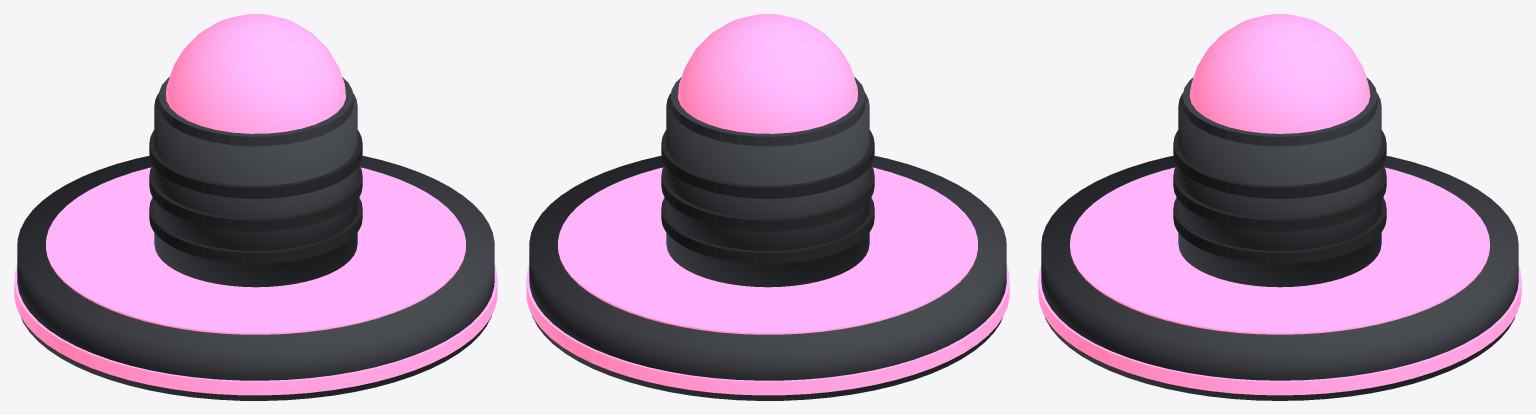
File: rebatedor_cyber_soccer_p2.glb
3 renders of one model, left to right at view 1: azimuth 30°, elevation 25°; view 2: azimuth 150°, elevation 25°; view 3: azimuth 270°, elevation 25°, orthographic.
Parts seen in each view (by area): view 1: Cylinder.002, Cylinder, Cylinder.003, Sphere, Cylinder.001, Cylinder.006, Cylinder.004, Cylinder.005, Cylinder.007; view 2: Cylinder.002, Cylinder, Cylinder.003, Sphere, Cylinder.001, Cylinder.006, Cylinder.004, Cylinder.005, Cylinder.007; view 3: Cylinder.002, Cylinder, Cylinder.003, Sphere, Cylinder.001, Cylinder.006, Cylinder.004, Cylinder.005, Cylinder.007.
Part boxes in pixels (x1=…): Cylinder.002: x1=46, y1=167, x2=465, y2=334; Cylinder: x1=17, y1=155, x2=494, y2=400; Cylinder.003: x1=154, y1=93, x2=357, y2=287; Sphere: x1=166, y1=14, x2=345, y2=133; Cylinder.001: x1=14, y1=264, x2=497, y2=395; Cylinder.006: x1=149, y1=130, x2=362, y2=198; Cylinder.004: x1=149, y1=197, x2=362, y2=263; Cylinder.005: x1=149, y1=165, x2=362, y2=231; Cylinder.007: x1=158, y1=77, x2=353, y2=146; Cylinder.002: x1=558, y1=167, x2=977, y2=334; Cylinder: x1=529, y1=155, x2=1006, y2=400; Cylinder.003: x1=666, y1=93, x2=869, y2=287; Sphere: x1=678, y1=14, x2=857, y2=133; Cylinder.001: x1=526, y1=264, x2=1009, y2=395; Cylinder.006: x1=661, y1=130, x2=874, y2=198; Cylinder.004: x1=661, y1=197, x2=874, y2=263; Cylinder.005: x1=661, y1=165, x2=874, y2=231; Cylinder.007: x1=670, y1=77, x2=865, y2=146; Cylinder.002: x1=1070, y1=167, x2=1489, y2=334; Cylinder: x1=1041, y1=155, x2=1518, y2=400; Cylinder.003: x1=1178, y1=93, x2=1381, y2=287; Sphere: x1=1189, y1=14, x2=1370, y2=133; Cylinder.001: x1=1038, y1=265, x2=1521, y2=395; Cylinder.006: x1=1173, y1=130, x2=1386, y2=198; Cylinder.004: x1=1173, y1=197, x2=1386, y2=263; Cylinder.005: x1=1173, y1=165, x2=1386, y2=231; Cylinder.007: x1=1182, y1=77, x2=1377, y2=146.
Bounding box in the file's own units: 0.1619 × 0.1032 × 0.1619.
